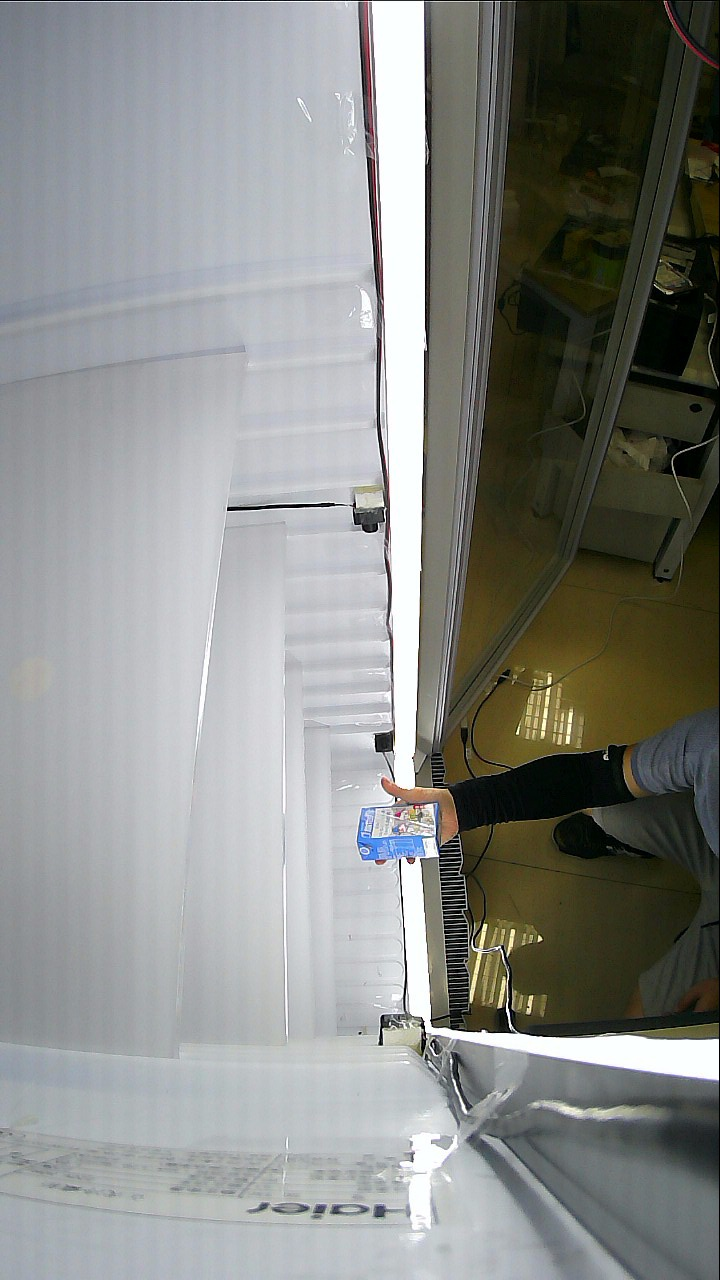VitaSoyOriginal: (362, 781, 487, 868)
